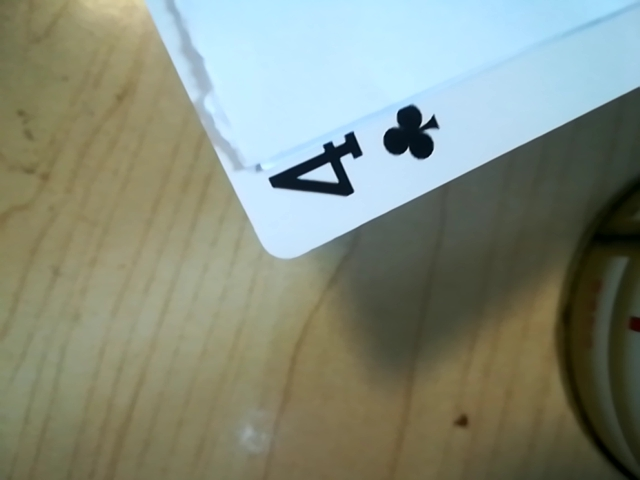mh 4: (240, 93, 456, 218)
